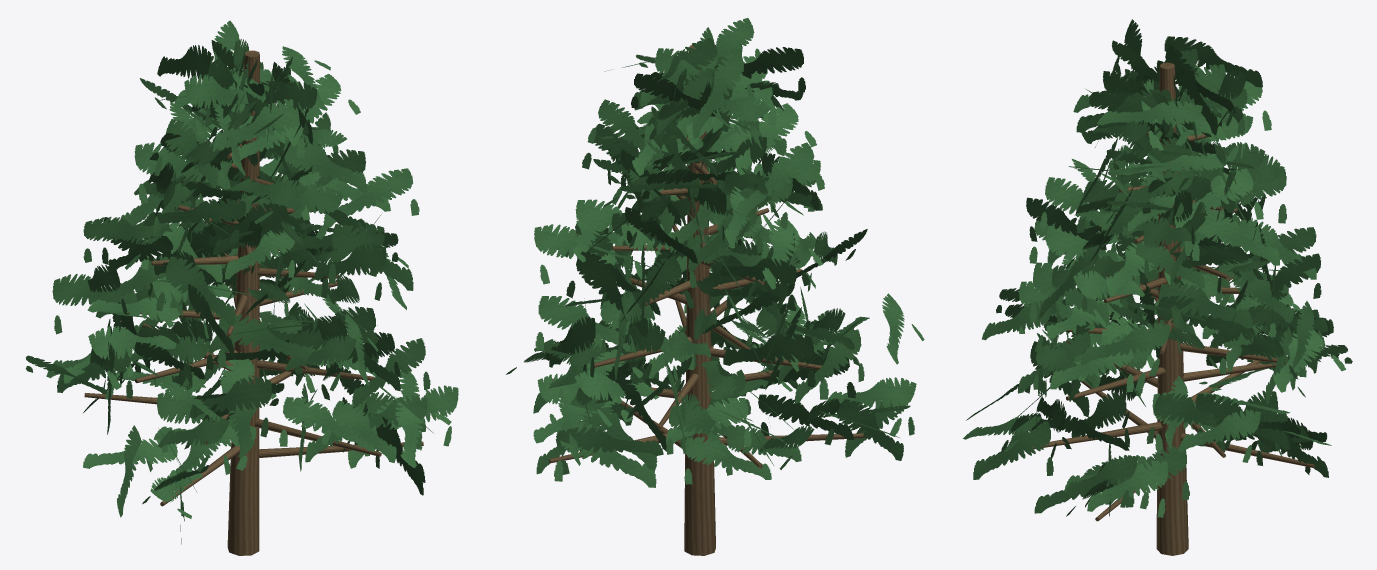
The picture shows the model from 3 angles, left to right: view 1: azimuth 30°, elevation 25°; view 2: azimuth 150°, elevation 25°; view 3: azimuth 270°, elevation 25°; orthographic projection. The views are drawn at different scales.
Parts seen in each view (by area): view 1: pine-needle, pine-bark; view 2: pine-needle, pine-bark; view 3: pine-needle, pine-bark.
Part boxes in pixels (bbox=[...]): pine-needle: bbox=[25, 20, 458, 544]; pine-bark: bbox=[84, 50, 423, 555]; pine-needle: bbox=[506, 18, 924, 487]; pine-bark: bbox=[549, 45, 872, 555]; pine-needle: bbox=[963, 19, 1352, 517]; pine-bark: bbox=[1032, 62, 1314, 555].
Bounding box in the file's own units: 7.82 × 10.37 × 7.55.
Materials: 2 (2 with a texture image).
